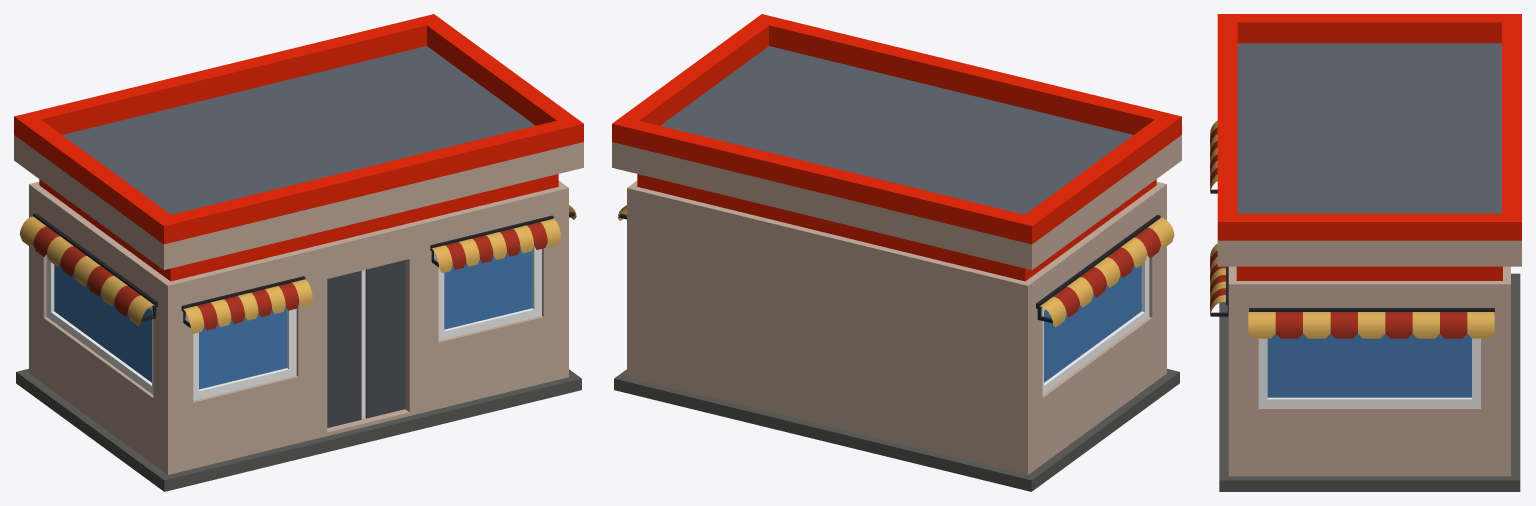
The model's file is Fuel Station Shop_1.fbx.
3 views of the same model, side by side, from view 1: azimuth 30°, elevation 25°; view 2: azimuth 150°, elevation 25°; view 3: azimuth 270°, elevation 25° (orthographic).
Visible parts, largest first — view 1: Fuel Station Shop_1; view 2: Fuel Station Shop_1; view 3: Fuel Station Shop_1.
Boxes of the visible parts, x1=… form: Fuel Station Shop_1: x1=14, y1=14, x2=583, y2=491; Fuel Station Shop_1: x1=612, y1=14, x2=1181, y2=491; Fuel Station Shop_1: x1=1210, y1=14, x2=1521, y2=491.
Bounding box in the file's own units: 1085 × 635 × 663.
